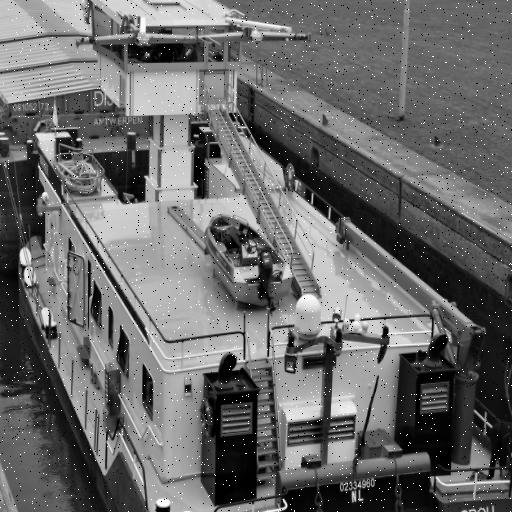tugboat: (4, 1, 512, 512)
